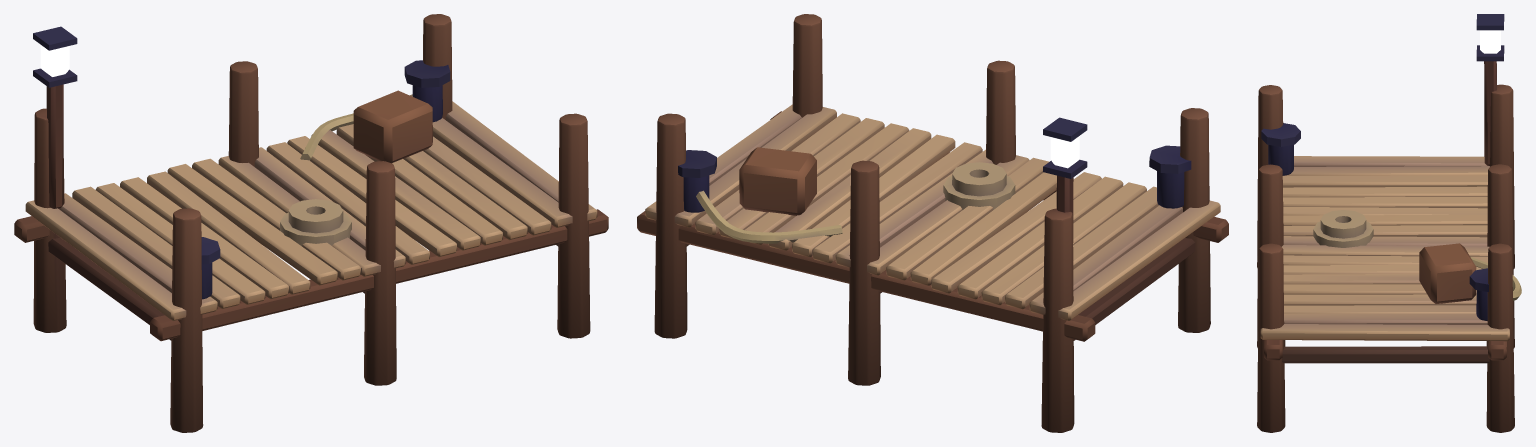
The model's file is common_town_dock.glb.
3 renders of one model, left to right at view 1: azimuth 30°, elevation 25°; view 2: azimuth 150°, elevation 25°; view 3: azimuth 270°, elevation 25°, orthographic. The views are drawn at different scales.
Visible parts, largest first — view 1: common_town_dock; view 2: common_town_dock; view 3: common_town_dock.
Part boxes in pixels (x1,y1,x2,y2): common_town_dock: [14, 14, 608, 432]; common_town_dock: [637, 14, 1228, 432]; common_town_dock: [1257, 14, 1521, 432].
Bounding box in the file's own units: 4.21 × 2.63 × 2.54.
